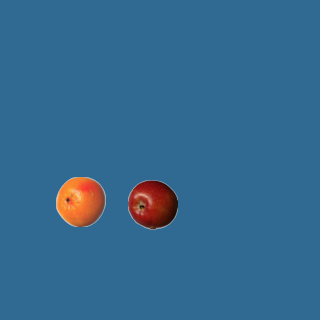Apple Braeburn: (127, 179, 177, 229)
Grapefruit Pink: (55, 176, 105, 226)
